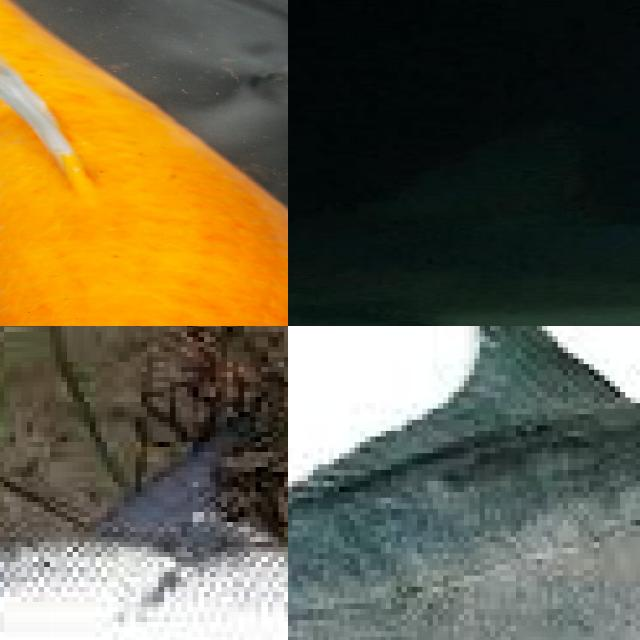fish: (288, 326, 640, 640), (0, 0, 288, 326), (288, 120, 640, 326), (0, 437, 288, 640)
